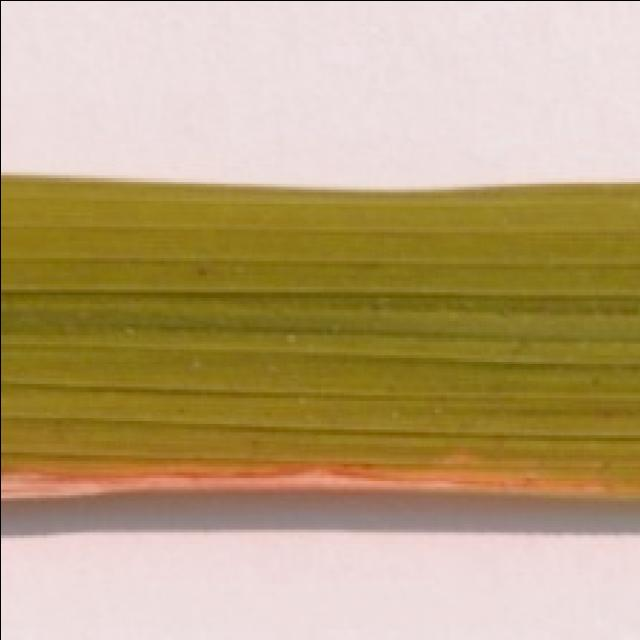Unhealthy: (0, 446, 640, 498)
